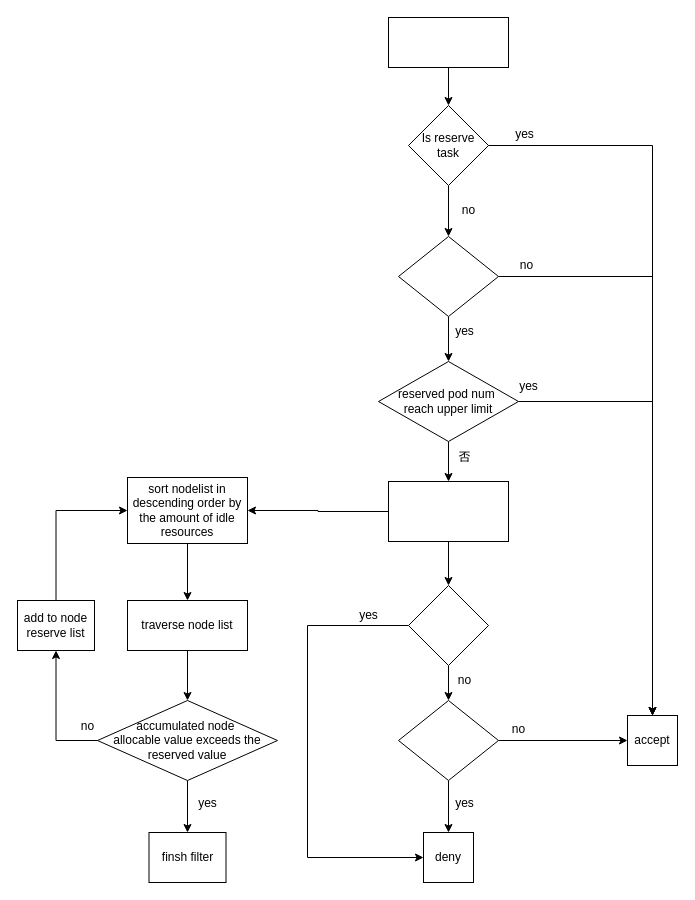
Image size: 695x900. Some labels were removed from this diagram. Here are the shapes that lost their labels. From the top down, the centre of each, then its label:
At (448,42): "Filter node list that meet the label".
At (448,276): "Is in reserve period".
At (448,511): "Dynamically specify reserve nodes".
At (448,625): "is hit node reserve list".
At (448,740): "reserve value dissatisfied".
